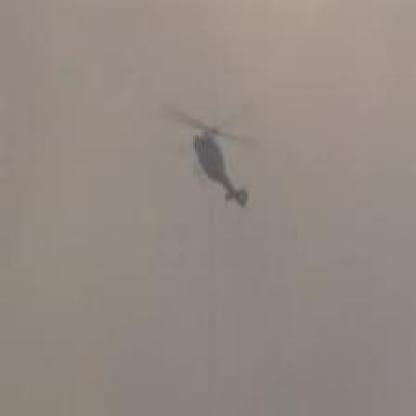other: (295, 13, 391, 102)
